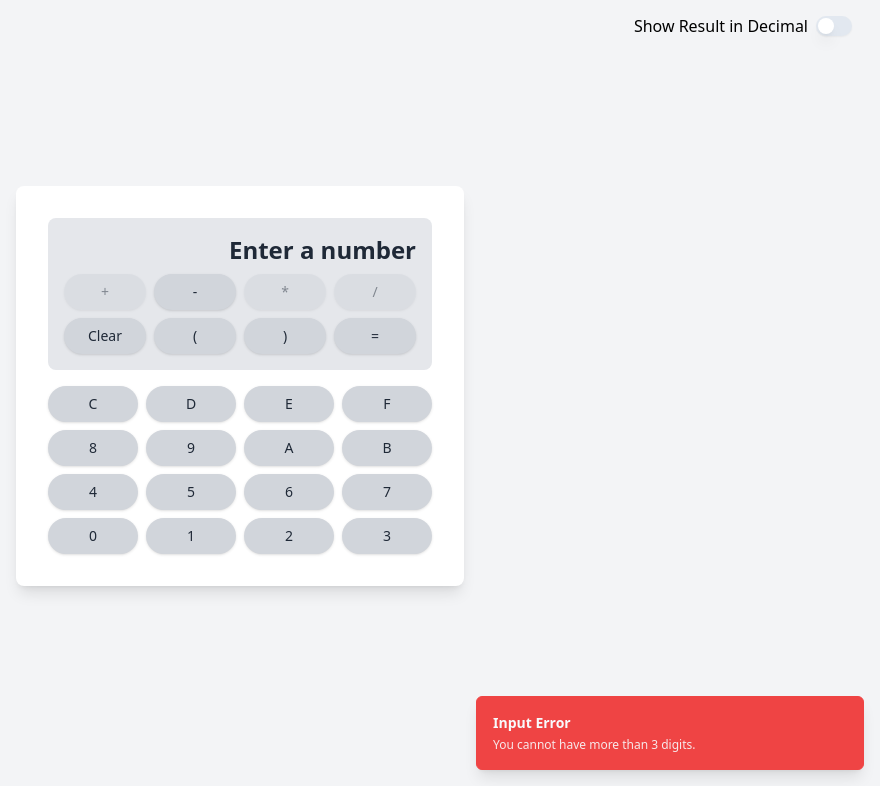
it: Page › do a basic calculation and see if the correct result shows
What coordinates should you click on to do the following:
click the button with test id "key-1"
I would click on:
 (191, 536)
Its box is [146, 518, 236, 554].
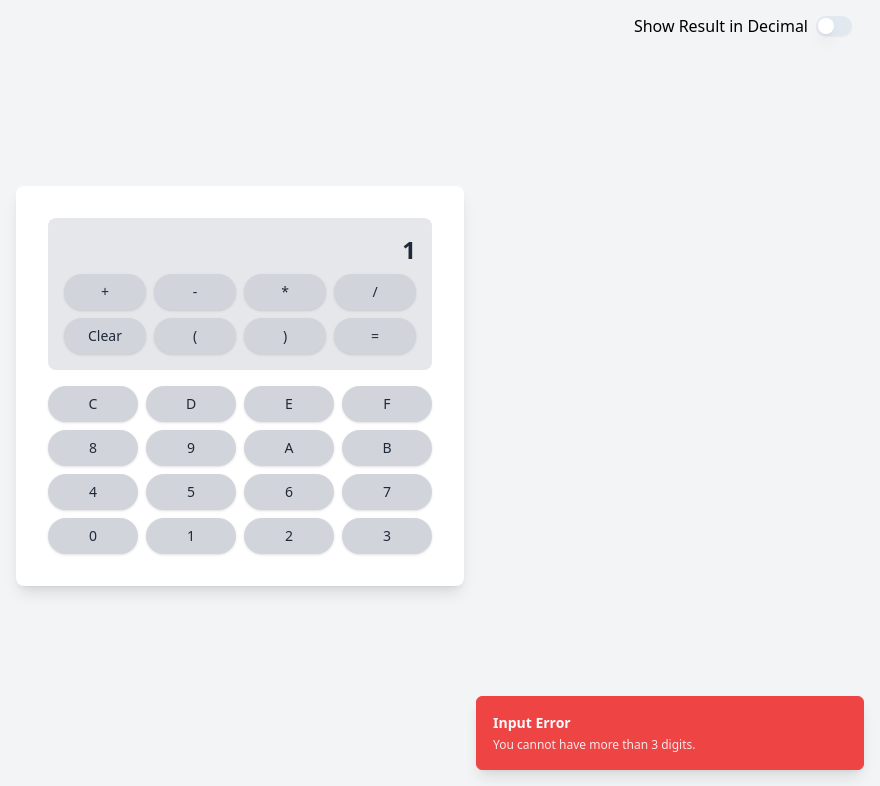
What coordinates should you click on to do the following:
click the button with test id "addition"
I would click on:
 (105, 292)
Its box is [64, 274, 146, 310].
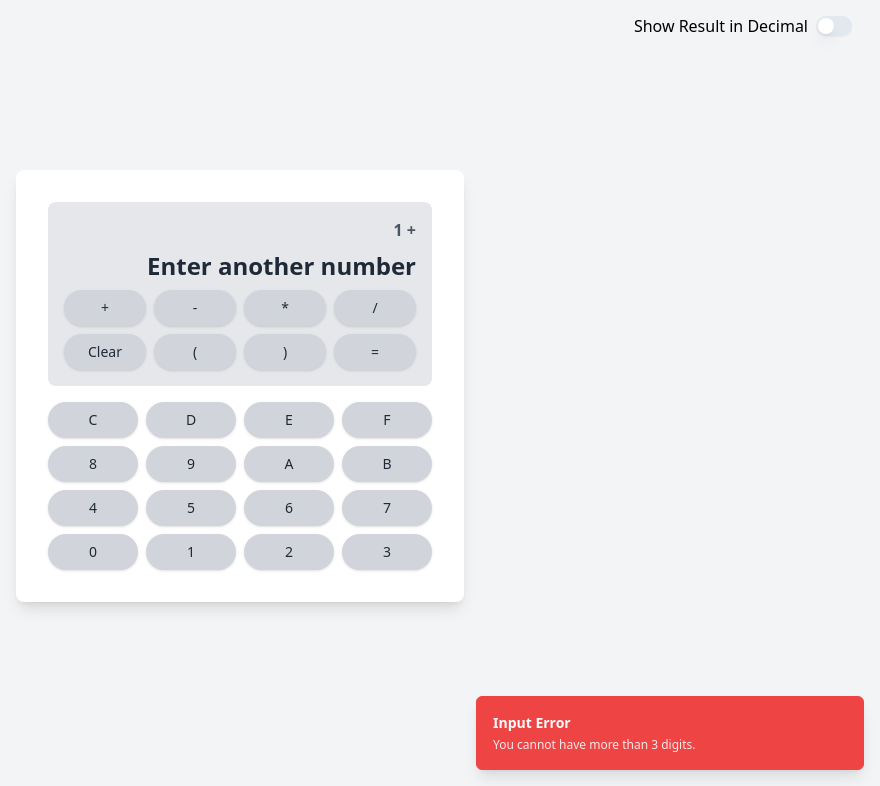
What coordinates should you click on to do the following:
click the button with test id "key-1"
I would click on:
 (191, 552)
Its box is [146, 534, 236, 570].
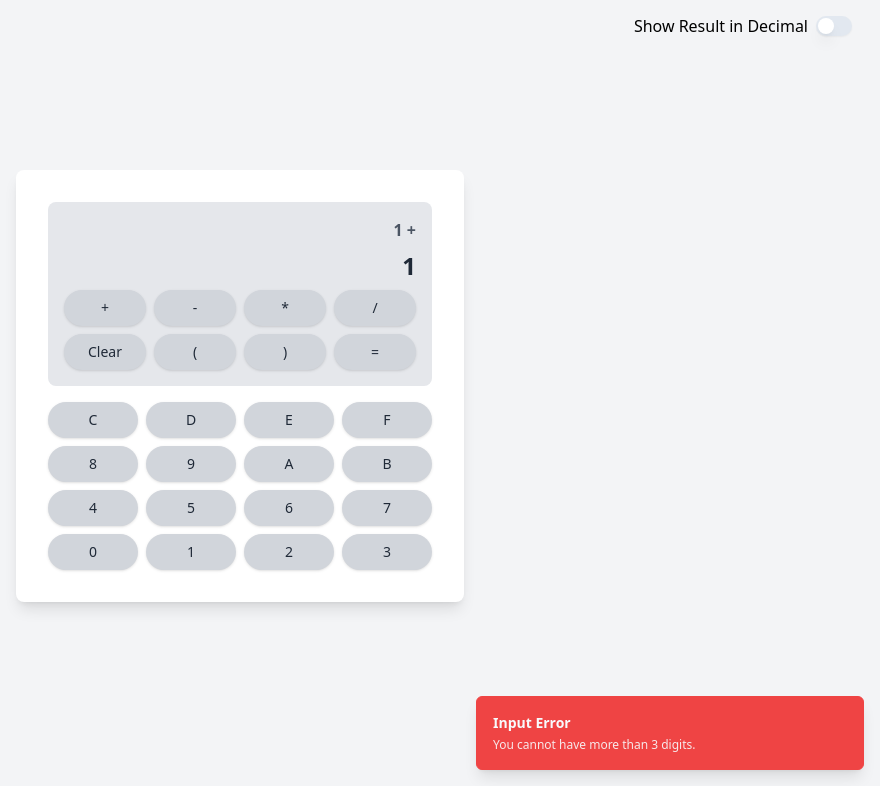
What coordinates should you click on to do the following:
click the button with test id "equals"
I would click on:
 (375, 352)
Its box is [334, 334, 416, 370].
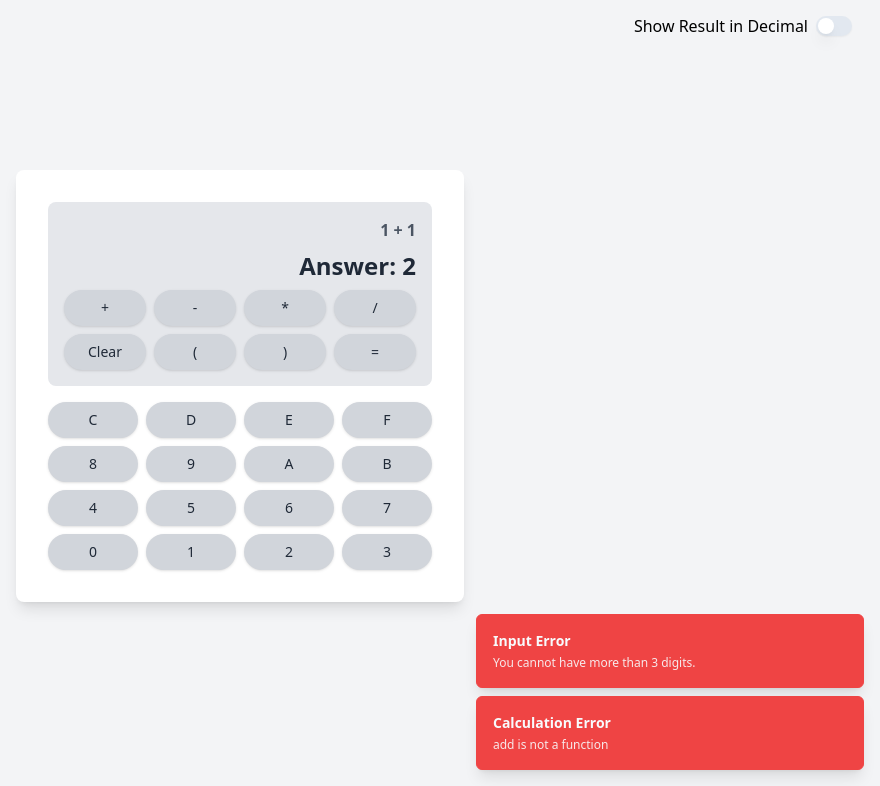
Expected: the text with test id "entryArea" reads "Answer: 2", [299, 249, 416, 282]
